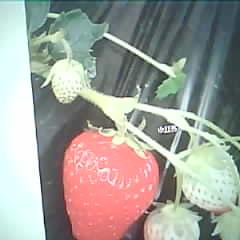straw-ripe: (63, 130, 159, 240)
straw-unripe: (181, 145, 239, 211), (51, 58, 84, 103)
